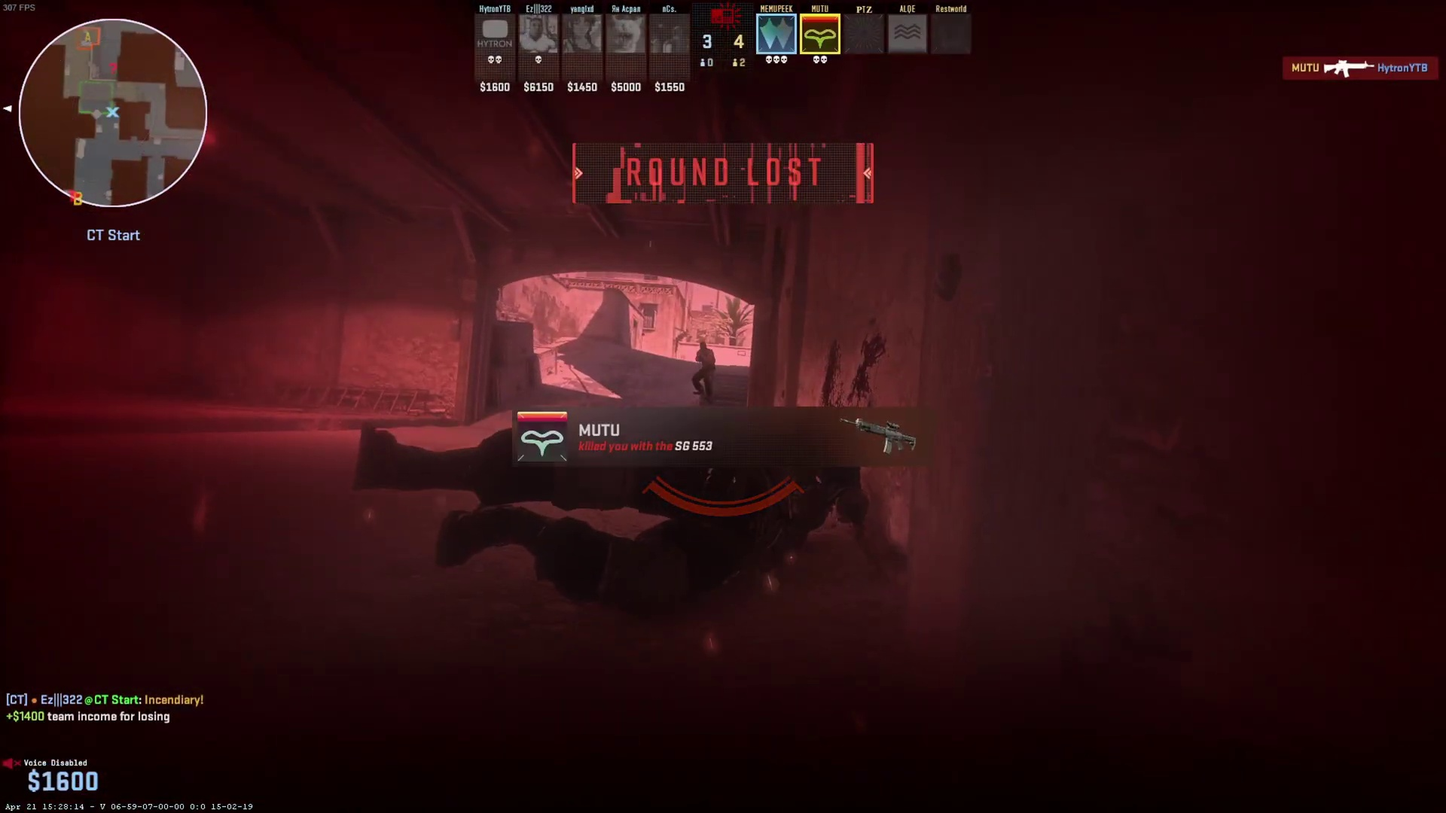CT: (694, 342, 715, 401)
